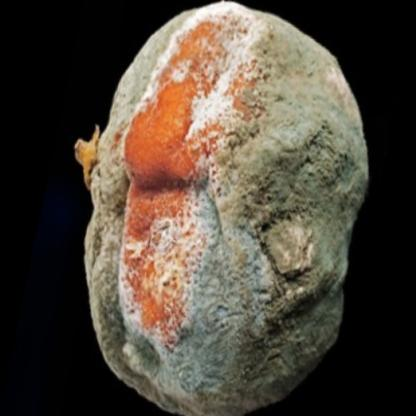rotten: (75, 1, 370, 416)
